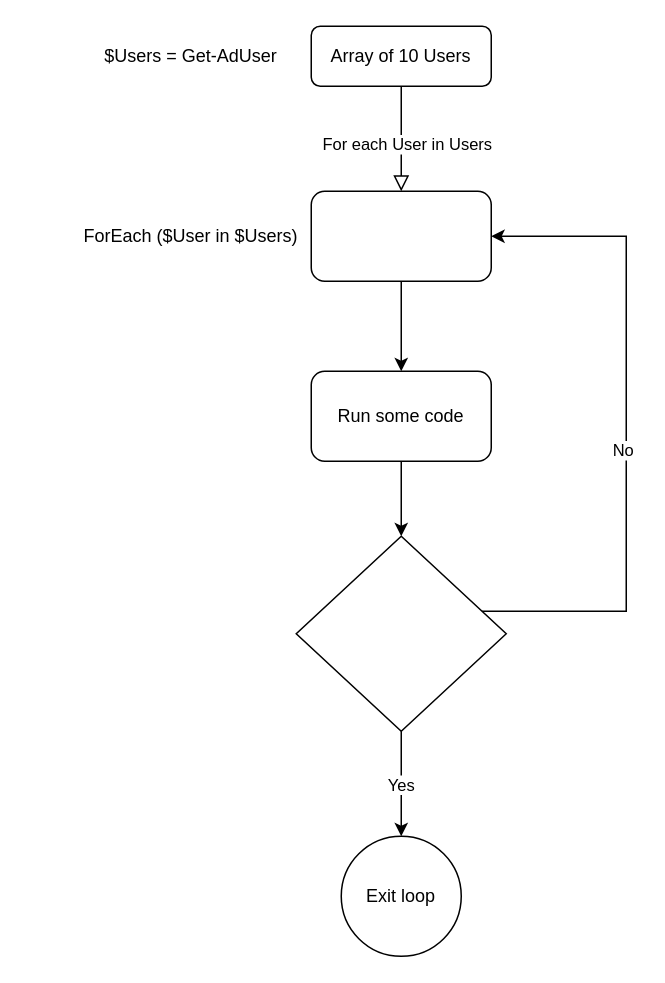
Some shapes in this 665 by 983 pixel diagram are drawn without their labels. The shapes that lost their labels are listed below. From the top down, each one's centre as x and y in pixels, then its label:
the point at 400,235: Take next User
the point at 400,633: Is this the last user?
